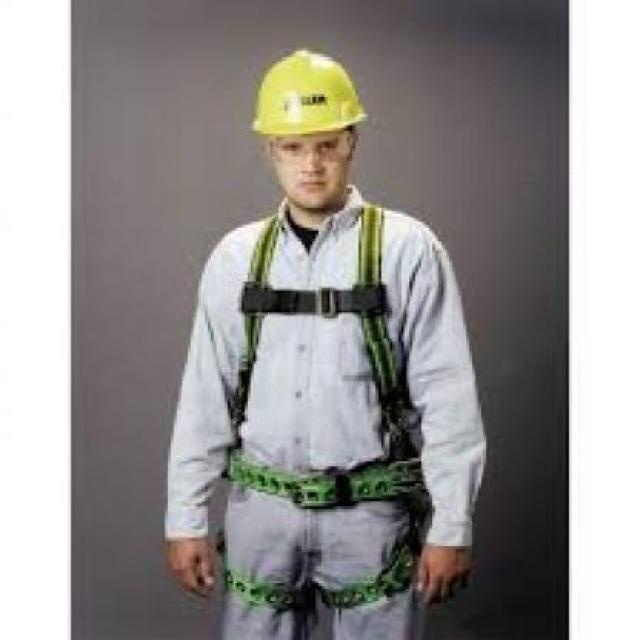Arnes_seguridad: (217, 200, 428, 623)
